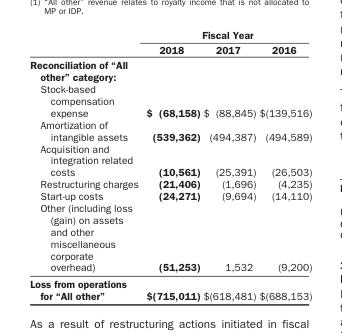table: (29, 28, 311, 301)
table column: (29, 28, 141, 301), (141, 28, 201, 301), (201, 28, 256, 301), (256, 28, 311, 301)
table column header: (29, 28, 311, 56)
table projected row header: (29, 56, 311, 82)
table row: (29, 201, 311, 275), (29, 82, 311, 118), (29, 142, 311, 177), (29, 56, 311, 82), (29, 275, 311, 301), (29, 118, 311, 142), (29, 41, 311, 56), (29, 28, 311, 41), (29, 177, 311, 189), (29, 189, 311, 201)
table spanning cell: (141, 28, 311, 41)
